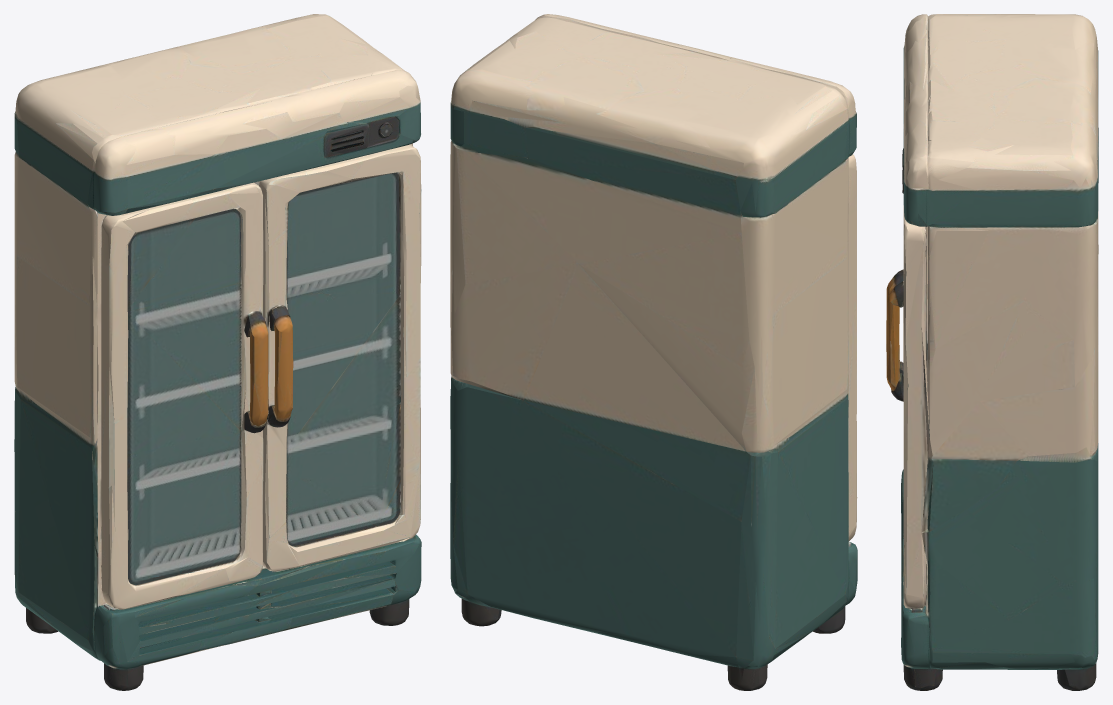
Rendered from rounded-restaurant-upright-fridge-closed.glb.
3 views of the same model, side by side, from view 1: azimuth 30°, elevation 25°; view 2: azimuth 150°, elevation 25°; view 3: azimuth 270°, elevation 25° (orthographic).
Visible parts, largest first — view 1: Mesh_0; view 2: Mesh_0; view 3: Mesh_0.
Boxes of the visible parts, x1,y1,x2,y2 form: Mesh_0: (14,14,421,690); Mesh_0: (450,14,857,690); Mesh_0: (886,14,1098,690).
Size of the model in its own units: 0.9 by 1.46 by 0.5225.
Materials: 1 (1 with a texture image).
